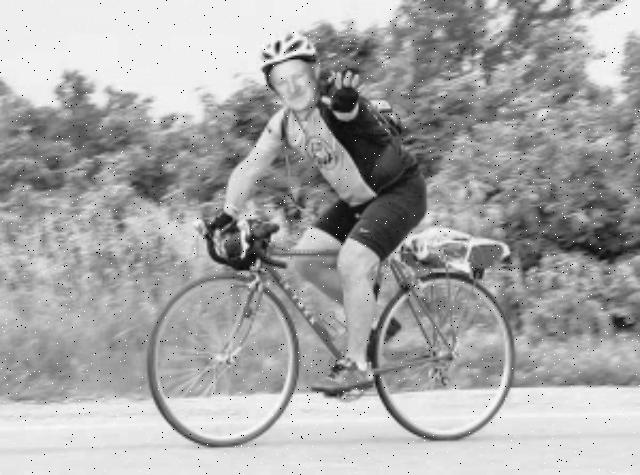With Helmet: (252, 25, 324, 114)
